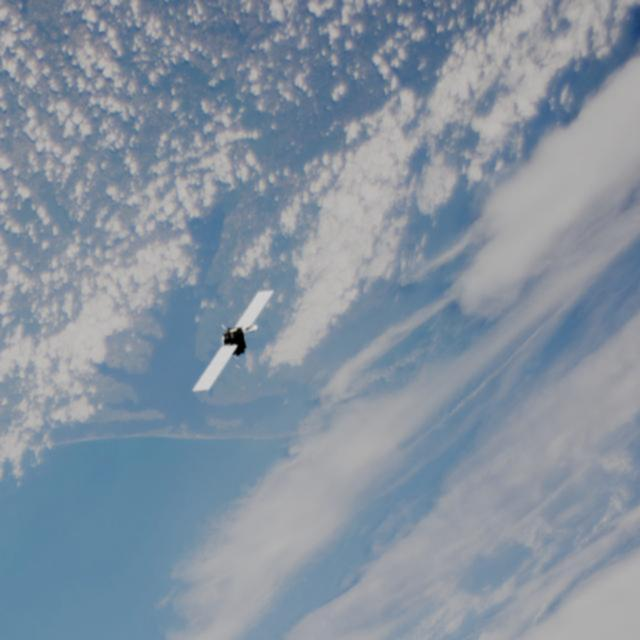satellite: (186, 284, 277, 400)
